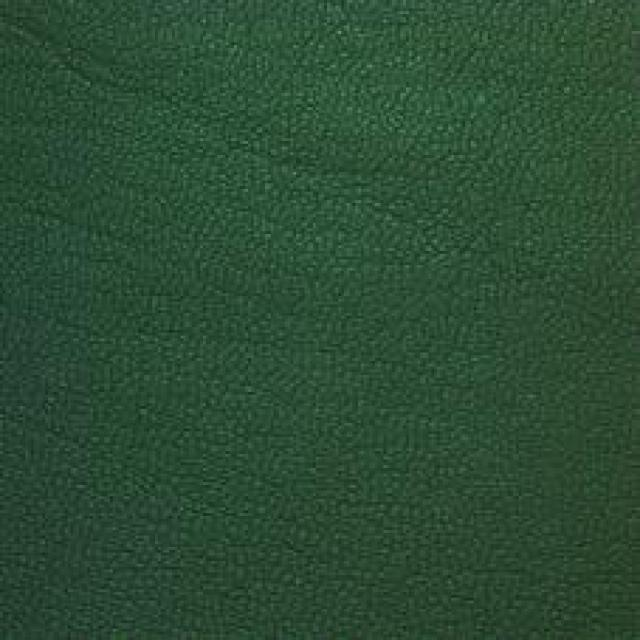Growth Marks: (64, 24, 470, 256)
